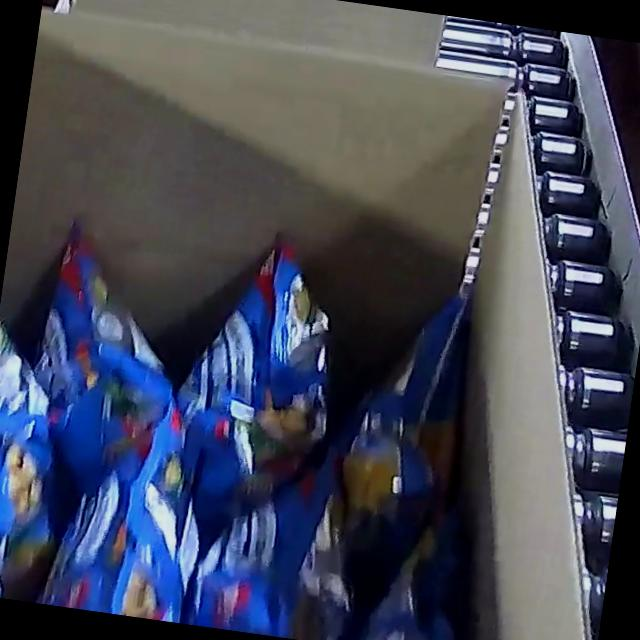paprika: (0, 197, 553, 640)
